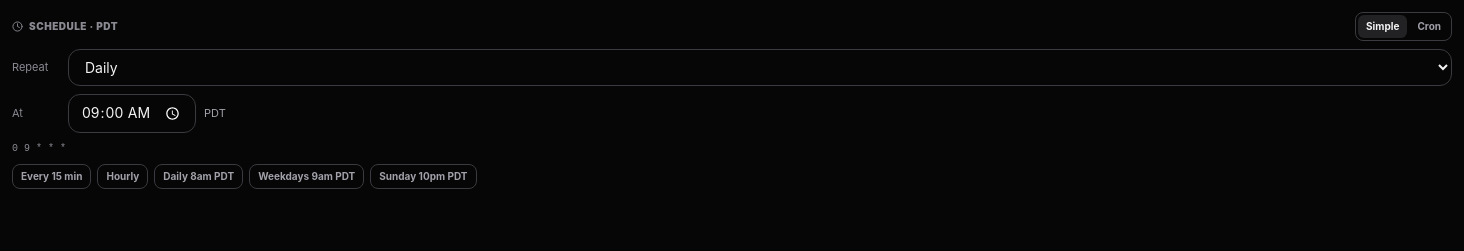
Test: ScheduleBuilder › builds a monthly schedule, and says what a short month does
This screenshot has width=1464, height=251.
Select "Monthly" in the dropdown named "Repeat": (760, 68) [68, 49, 1452, 86]
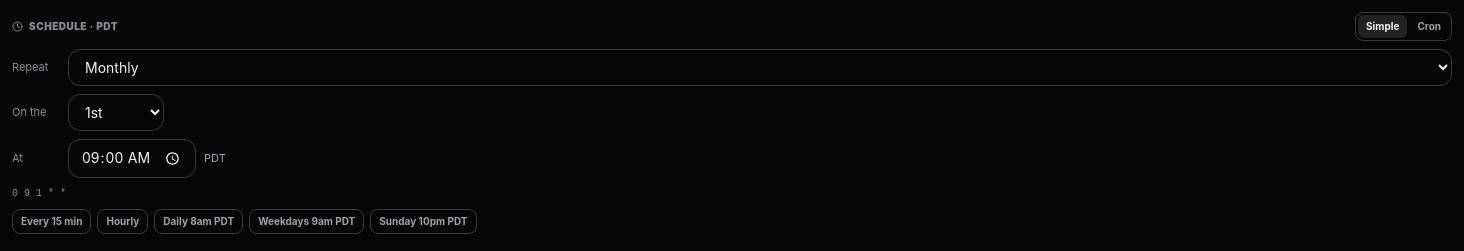
Select "31st" in the dropdown named "Day of the month": (116, 112) [68, 94, 164, 131]
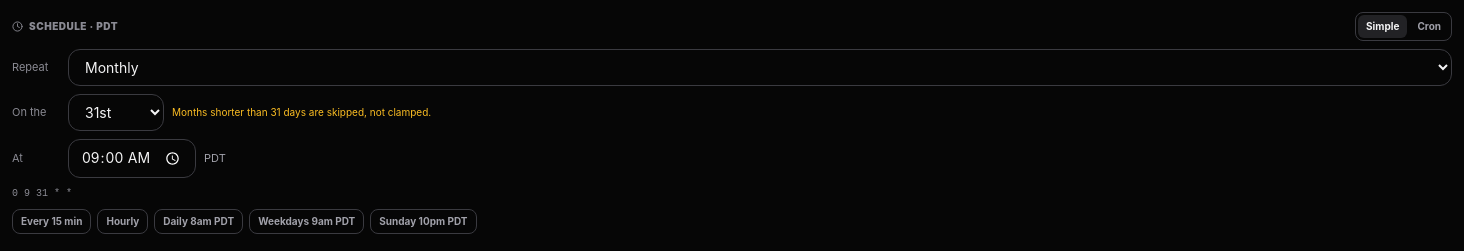
Now the text "Months shorter than 31 days are skipped, not clamped." is shown, box [172, 105, 431, 120]
